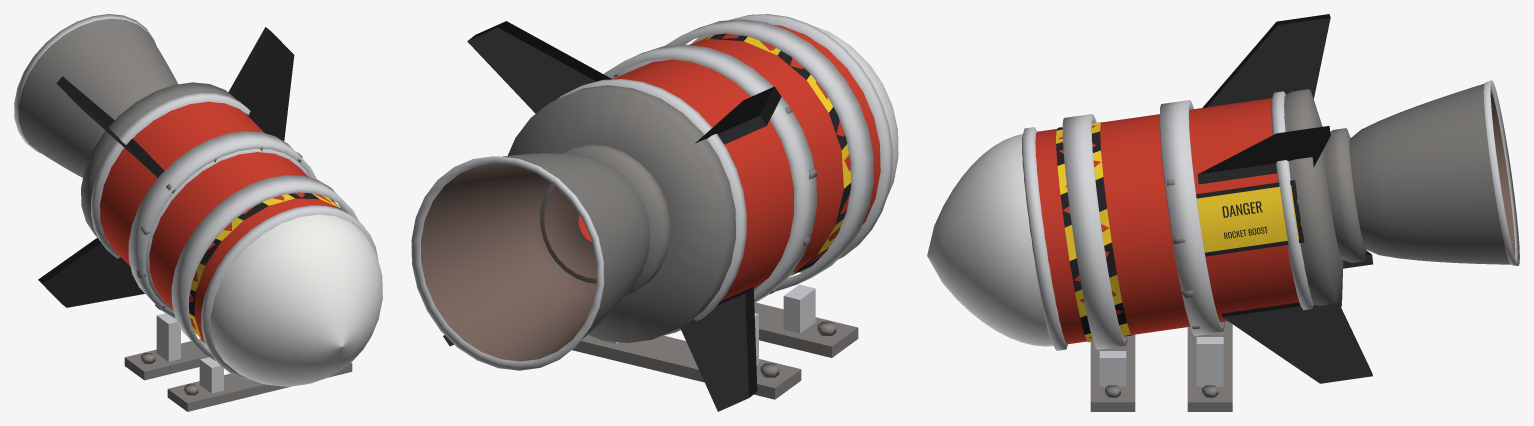
The model's file is jetski_rocket.glb.
3 renders of one model, left to right at view 1: azimuth 30°, elevation 25°; view 2: azimuth 150°, elevation 25°; view 3: azimuth 270°, elevation 25°, orthographic. The views are drawn at different scales.
Parts seen in each view (by area): view 1: RocketPod; view 2: RocketPod; view 3: RocketPod.
Boxes of the visible parts, bbox=[...] form: RocketPod: bbox=[14, 14, 382, 411]; RocketPod: bbox=[411, 14, 898, 411]; RocketPod: bbox=[927, 14, 1519, 411].
Bounding box in the file's own units: 0.3125 × 0.3658 × 0.6624.
